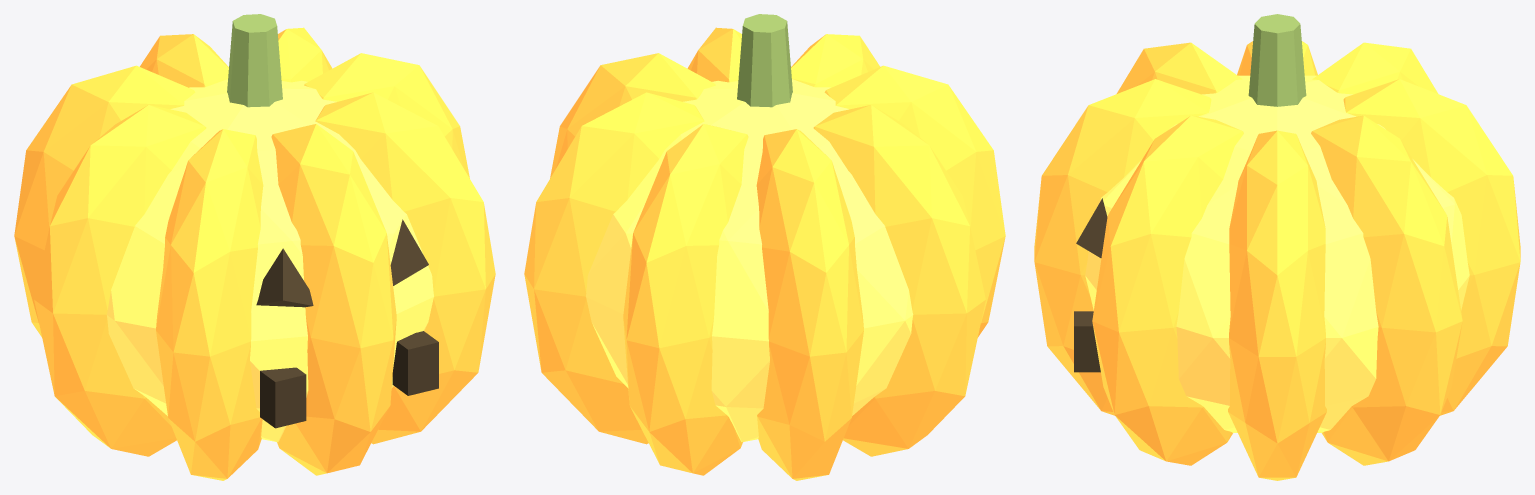
Rendered from halloween_pumpkin.glb.
The picture shows the model from 3 angles, left to right: view 1: azimuth 30°, elevation 25°; view 2: azimuth 150°, elevation 25°; view 3: azimuth 270°, elevation 25°; orthographic projection.
Visible parts, largest first — view 1: Pumpkin; view 2: Pumpkin; view 3: Pumpkin.
Boxes of the visible parts, <box> form: Pumpkin: <box>14,14,495,480</box>; Pumpkin: <box>524,14,1005,480</box>; Pumpkin: <box>1034,14,1520,480</box>.
Size of the model in its own units: 1.91 by 1.76 by 1.91.
